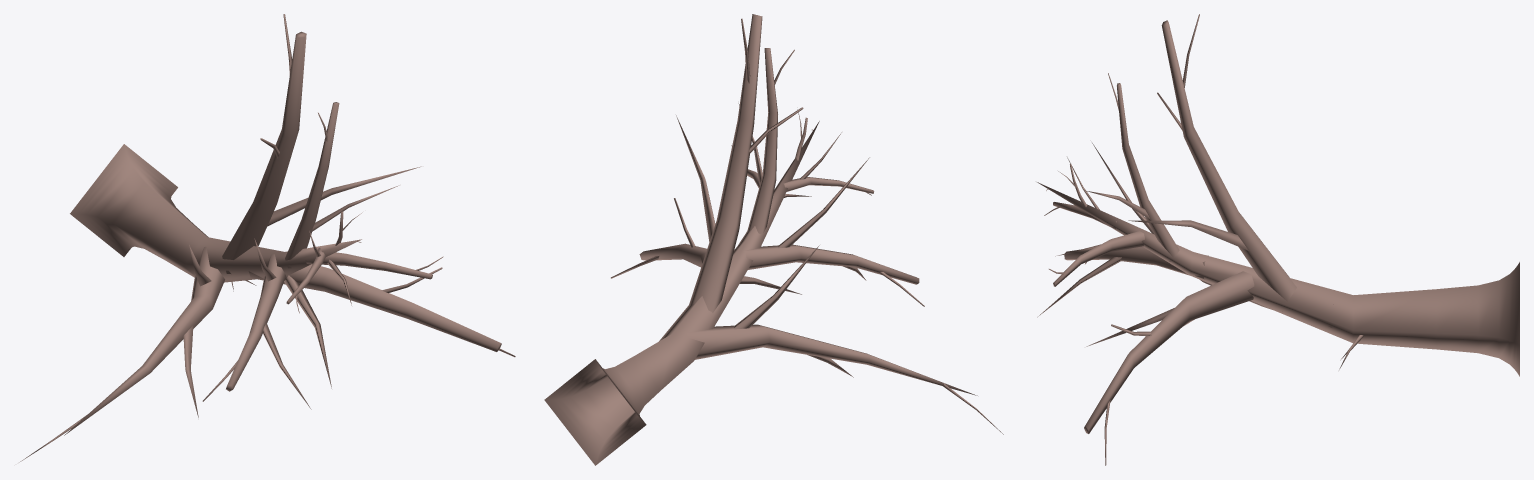
The model's file is Tree.fbx.
3 renders of one model, left to right at view 1: azimuth 30°, elevation 25°; view 2: azimuth 150°, elevation 25°; view 3: azimuth 270°, elevation 25°, orthographic. The views are drawn at different scales.
Parts seen in each view (by area): view 1: Tree; view 2: Tree; view 3: Tree.
Part boxes in pixels (box(x1,y1,x2,y2)): Tree: box(19, 14, 515, 462); Tree: box(544, 14, 1003, 465); Tree: box(1037, 14, 1519, 465).
Bounding box in the file's own units: 5.57 × 4.4 × 5.
